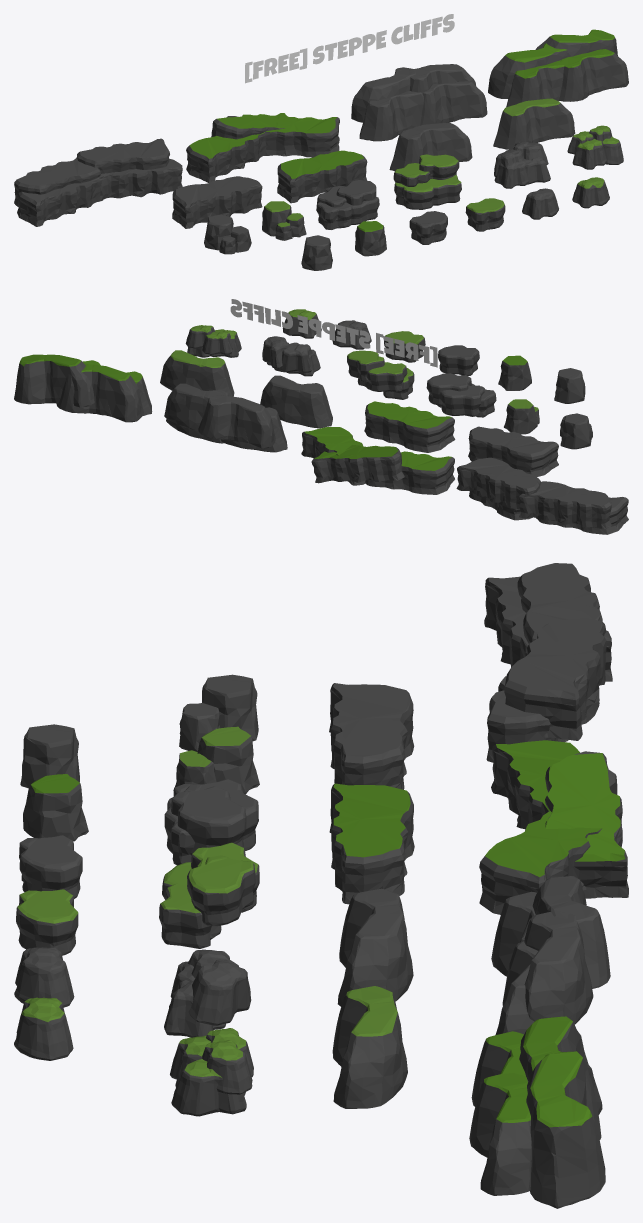
Rendered from lowpoly_cliffs.fbx.
The picture shows the model from 3 angles, top to bottom: view 1: azimuth 30°, elevation 25°; view 2: azimuth 150°, elevation 25°; view 3: azimuth 270°, elevation 25°; orthographic projection. The views are drawn at different scales.
Parts seen in each view (by area): view 1: Example.018_Plane.074, Example.016_Plane.070, Example.017_Plane.071, Example.019_Plane.075, Cliff_rock_04.001_Plane.072, Cliff_rock_04_Grass.001_Plane.073, Example.012_Plane.066, Cliff_rock_05_Grass.001_Plane.061, Text.001_Text, Cliff_rock_05.002_Plane.060, Example.013_Plane.067, Example.014_Plane.068 (+9 smaller); view 2: Example.018_Plane.074, Example.016_Plane.070, Example.019_Plane.075, Example.017_Plane.071, Cliff_rock_04_Grass.001_Plane.073, Cliff_rock_04.001_Plane.072, Text.001_Text, Cliff_rock_05.002_Plane.060, Example.013_Plane.067, Cliff_rock_05_Grass.001_Plane.061, Example.012_Plane.066, Example.014_Plane.068 (+9 smaller); view 3: Example.016_Plane.070, Example.019_Plane.075, Example.018_Plane.074, Example.017_Plane.071, Cliff_rock_04_Grass.001_Plane.073, Cliff_rock_04.001_Plane.072, Example.012_Plane.066, Cliff_rock_05_Grass.001_Plane.061, Cliff_rock_05.002_Plane.060, Example.015_Plane.069, Example.013_Plane.067, Example.014_Plane.068 (+8 smaller).
Boxes of the visible parts, left/top/right/bottom form: Example.018_Plane.074: left=14, top=138, right=182, bottom=226; Example.016_Plane.070: left=488, top=29, right=628, bottom=107; Example.017_Plane.071: left=351, top=64, right=487, bottom=141; Example.019_Plane.075: left=186, top=113, right=339, bottom=182; Cliff_rock_04.001_Plane.072: left=172, top=176, right=262, bottom=228; Cliff_rock_04_Grass.001_Plane.073: left=277, top=150, right=367, bottom=203; Example.012_Plane.066: left=393, top=154, right=461, bottom=209; Cliff_rock_05_Grass.001_Plane.061: left=493, top=98, right=575, bottom=149; Text.001_Text: left=245, top=14, right=454, bottom=83; Cliff_rock_05.002_Plane.060: left=389, top=122, right=472, bottom=171; Example.013_Plane.067: left=316, top=179, right=379, bottom=229; Example.014_Plane.068: left=494, top=142, right=550, bottom=188; Example.018_Plane.074: left=456, top=457, right=628, bottom=534; Example.016_Plane.070: left=14, top=354, right=152, bottom=422; Example.019_Plane.075: left=301, top=427, right=454, bottom=494; Example.017_Plane.071: left=164, top=383, right=287, bottom=452; Cliff_rock_04_Grass.001_Plane.073: left=364, top=401, right=455, bottom=452; Cliff_rock_04.001_Plane.072: left=468, top=426, right=558, bottom=476; Text.001_Text: left=230, top=299, right=437, bottom=367; Cliff_rock_05.002_Plane.060: left=260, top=375, right=332, bottom=428; Example.013_Plane.067: left=426, top=373, right=496, bottom=417; Cliff_rock_05_Grass.001_Plane.061: left=160, top=350, right=234, bottom=396; Example.012_Plane.066: left=347, top=350, right=414, bottom=399; Example.014_Plane.068: left=262, top=336, right=320, bottom=376; Example.016_Plane.070: left=469, top=1016, right=605, bottom=1208; Example.019_Plane.075: left=479, top=740, right=628, bottom=914; Example.018_Plane.074: left=484, top=563, right=612, bottom=762; Example.017_Plane.071: left=491, top=876, right=610, bottom=1035; Cliff_rock_04_Grass.001_Plane.073: left=329, top=783, right=414, bottom=904; Cliff_rock_04.001_Plane.072: left=329, top=683, right=414, bottom=789; Example.012_Plane.066: left=159, top=842, right=259, bottom=948; Cliff_rock_05_Grass.001_Plane.061: left=332, top=986, right=407, bottom=1108; Cliff_rock_05.002_Plane.060: left=337, top=888, right=413, bottom=1006; Example.015_Plane.069: left=170, top=1028, right=253, bottom=1116; Example.013_Plane.067: left=164, top=779, right=258, bottom=865; Example.014_Plane.068: left=164, top=949, right=251, bottom=1037.
Bounding box in the file's own units: 7467 × 1482 × 3347.
Materials: 3 (2 with a texture image).
